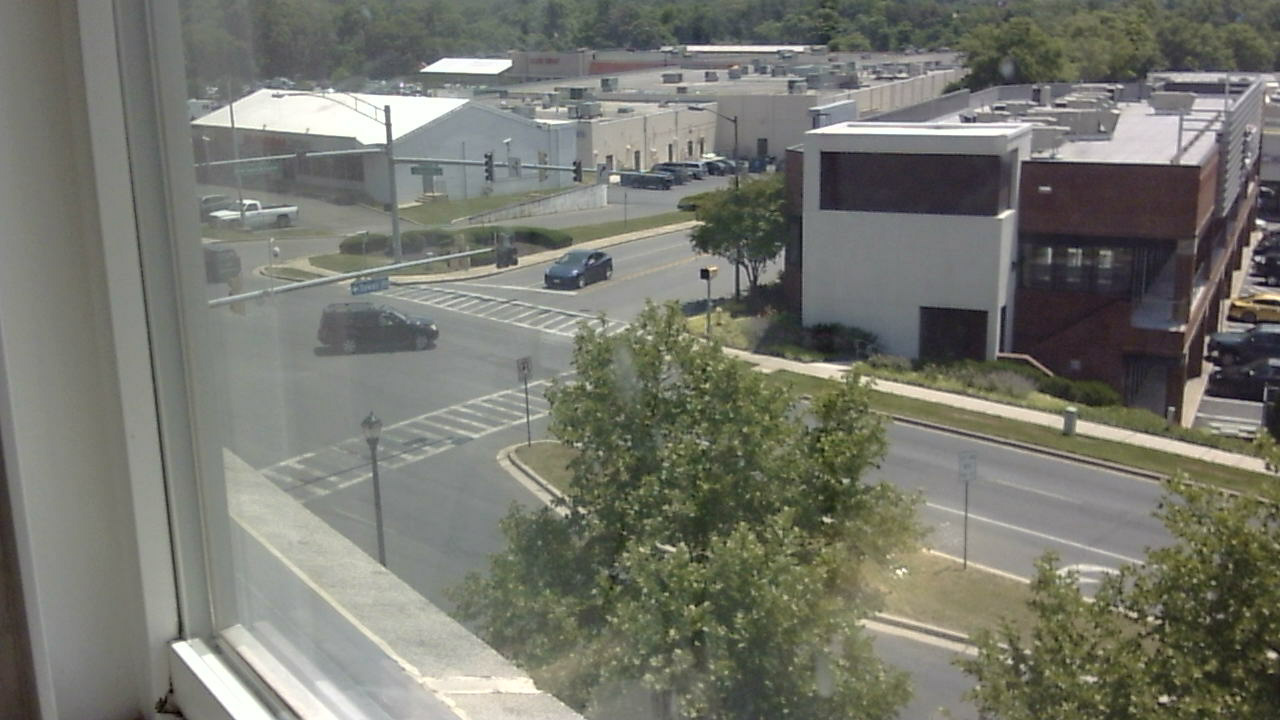Car: (312, 281, 464, 372), (547, 232, 630, 318)
Truck: (214, 202, 312, 233)
